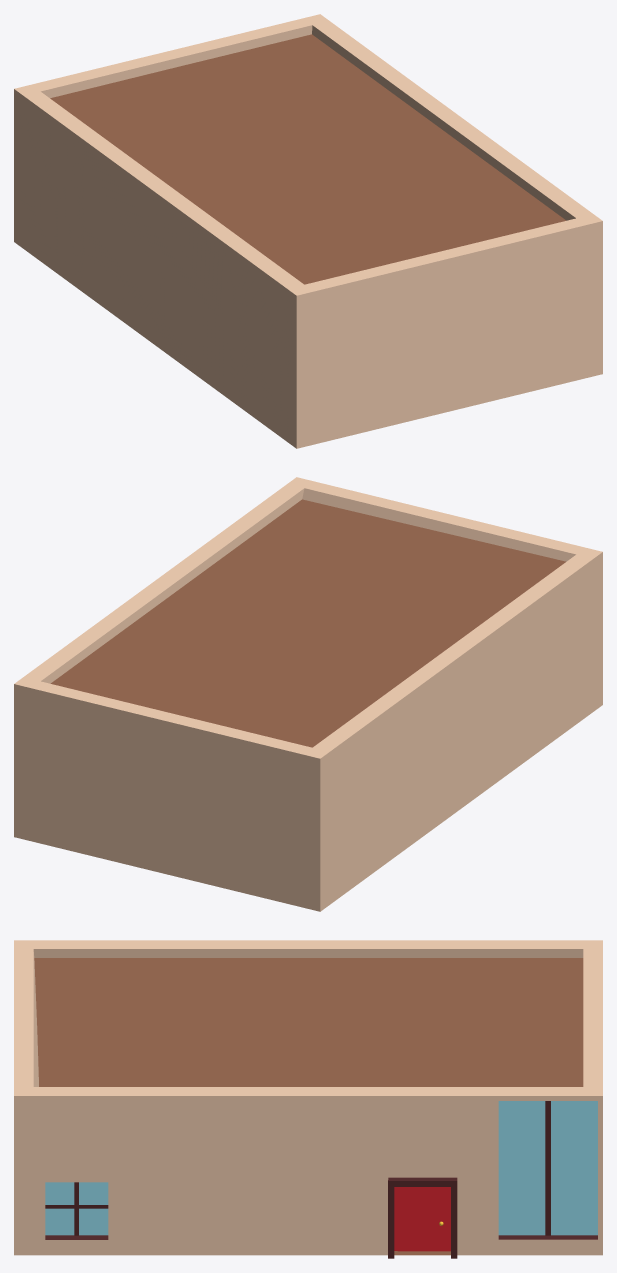
The model's file is GroceryStore.fbx.
The picture shows the model from 3 angles, top to bottom: view 1: azimuth 30°, elevation 25°; view 2: azimuth 150°, elevation 25°; view 3: azimuth 270°, elevation 25°; orthographic projection. The views are drawn at different scales.
Parts seen in each view (by area): view 1: CakeShop.001; view 2: CakeShop.001; view 3: CakeShop.001.
Boxes of the visible parts, x1=… form: CakeShop.001: x1=14, y1=14, x2=602, y2=448; CakeShop.001: x1=14, y1=477, x2=602, y2=911; CakeShop.001: x1=14, y1=940, x2=602, y2=1258.
Bounding box in the file's own units: 19.56 × 9.15 × 30.6.
